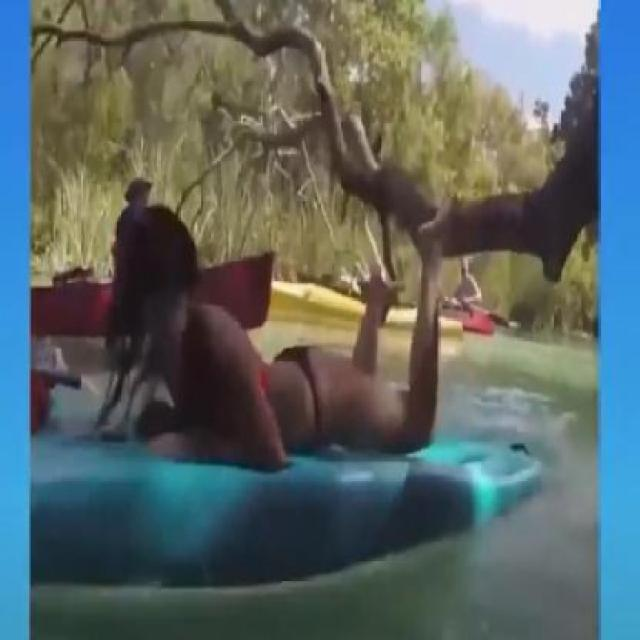fall: (113, 202, 445, 462)
